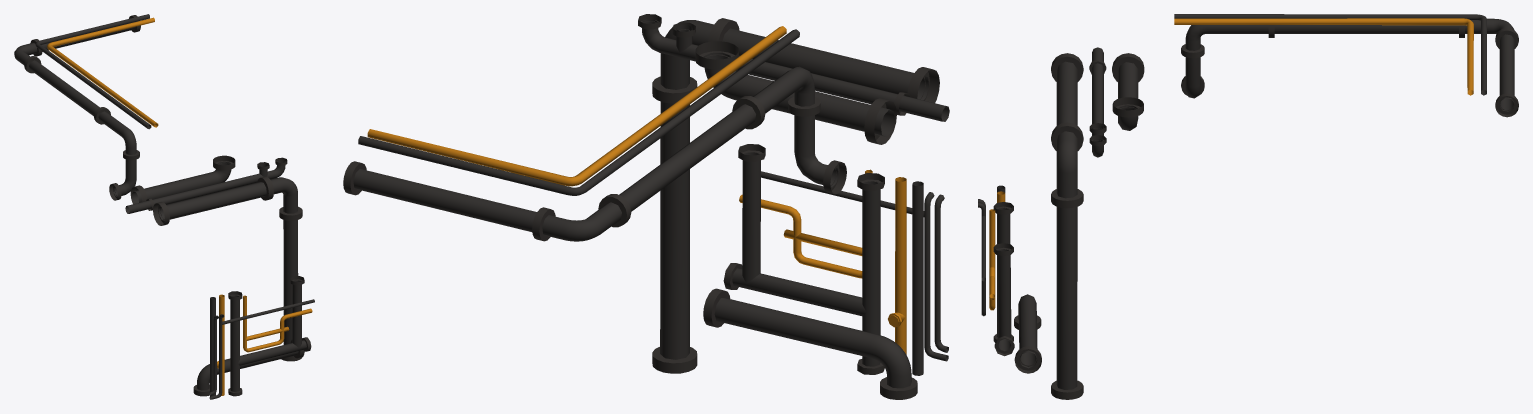
Rendered from SM_H_Building_Tide_WaterControl_02c_ATLAS.fbx.
3 renders of one model, left to right at view 1: azimuth 30°, elevation 25°; view 2: azimuth 150°, elevation 25°; view 3: azimuth 270°, elevation 25°, orthographic. The views are drawn at different scales.
Parts seen in each view (by area): view 1: SM_H_Building_Tide_WaterControl_02c_ATLAS; view 2: SM_H_Building_Tide_WaterControl_02c_ATLAS; view 3: SM_H_Building_Tide_WaterControl_02c_ATLAS.
Boxes of the visible parts, x1,y1,x2,y2 form: SM_H_Building_Tide_WaterControl_02c_ATLAS: (14, 14, 314, 399); SM_H_Building_Tide_WaterControl_02c_ATLAS: (343, 14, 949, 399); SM_H_Building_Tide_WaterControl_02c_ATLAS: (978, 14, 1518, 399).
Bounding box in the file's own units: 634 × 1336 × 849.
